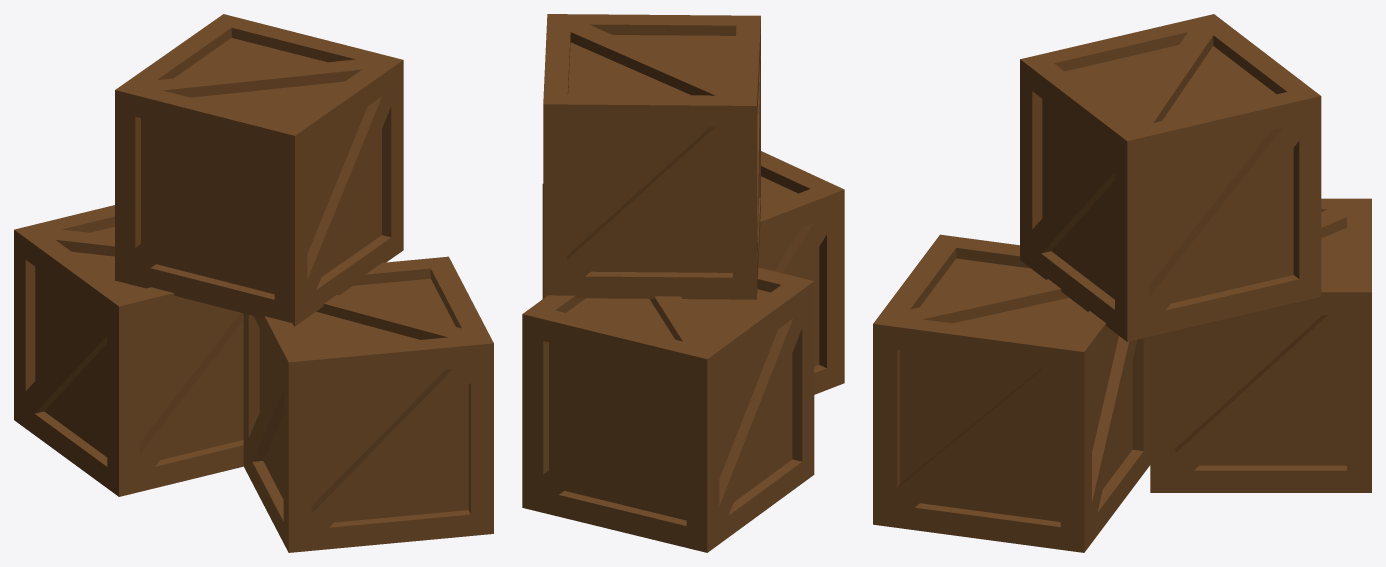
File: Boxes.fbx
The picture shows the model from 3 angles, left to right: view 1: azimuth 30°, elevation 25°; view 2: azimuth 150°, elevation 25°; view 3: azimuth 270°, elevation 25°; orthographic projection. The views are drawn at different scales.
Parts seen in each view (by area): view 1: doboz.002, doboz.001, doboz; view 2: doboz, doboz.002, doboz.001; view 3: doboz.002, doboz.001, doboz.
Part boxes in pixels (x1,y1,x2,y2): doboz.002: [115, 14, 403, 326]; doboz.001: [243, 256, 493, 552]; doboz: [14, 205, 243, 496]; doboz: [522, 267, 814, 552]; doboz.002: [543, 14, 760, 299]; doboz.001: [542, 151, 844, 394]; doboz.002: [1020, 14, 1321, 341]; doboz.001: [873, 234, 1150, 552]; doboz: [1150, 198, 1371, 492].
Bounding box in the file's own units: 328 × 397 × 450.
